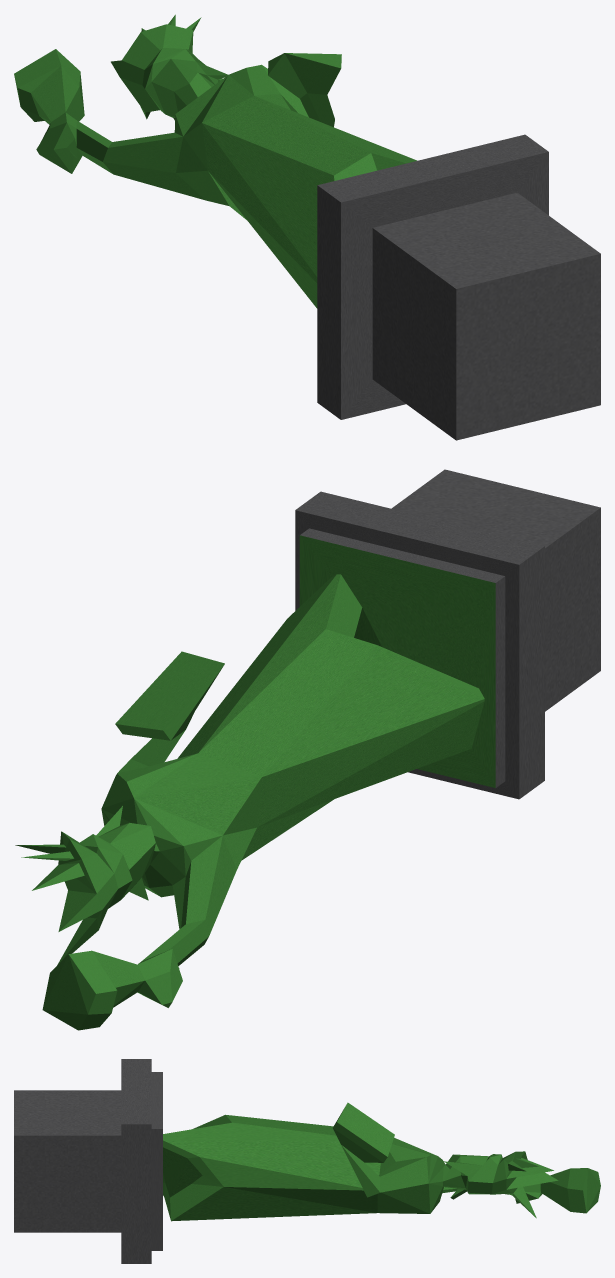
Rendered from statue_symbol_freedom.FBX.
The picture shows the model from 3 angles, top to bottom: view 1: azimuth 30°, elevation 25°; view 2: azimuth 150°, elevation 25°; view 3: azimuth 270°, elevation 25°; orthographic projection. The views are drawn at different scales.
Parts seen in each view (by area): view 1: statue_12; view 2: statue_12; view 3: statue_12.
Part boxes in pixels (box(x1,y1,x2,y2)): statue_12: box(14, 14, 600, 440); statue_12: box(15, 469, 600, 1030); statue_12: box(14, 1059, 600, 1263).
Bounding box in the file's own units: 60.77 × 60.77 × 232.
